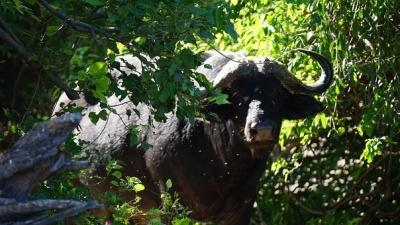buffalo: (73, 50, 332, 225)
